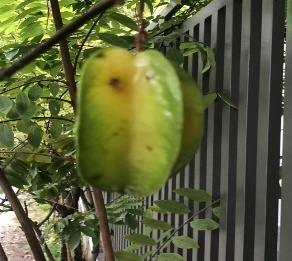Khe: (76, 39, 205, 200)
